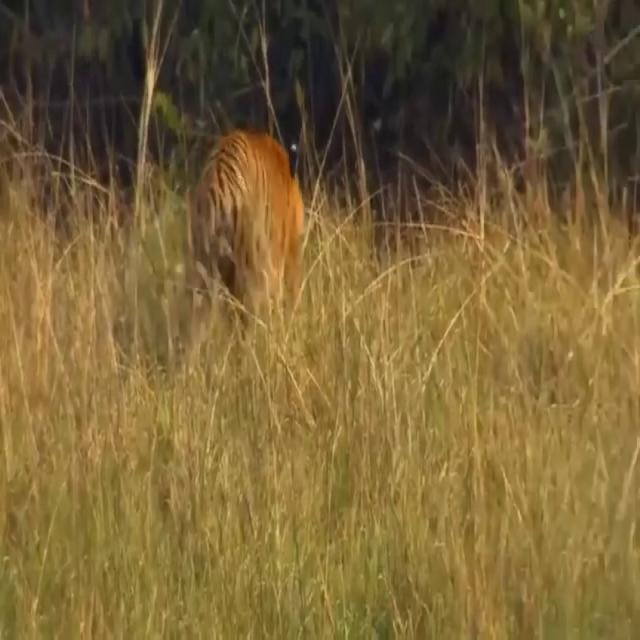tiger: (194, 131, 304, 322)
